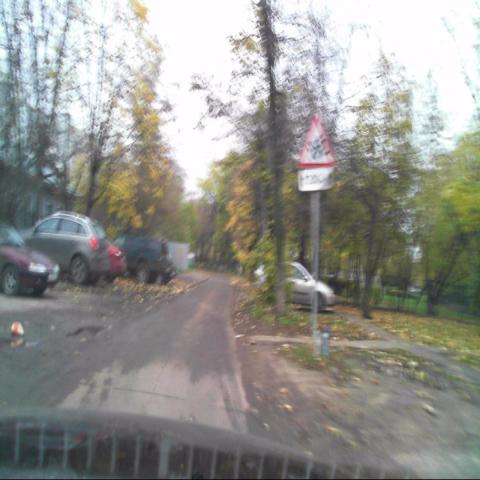1_23: (301, 116, 333, 167)
